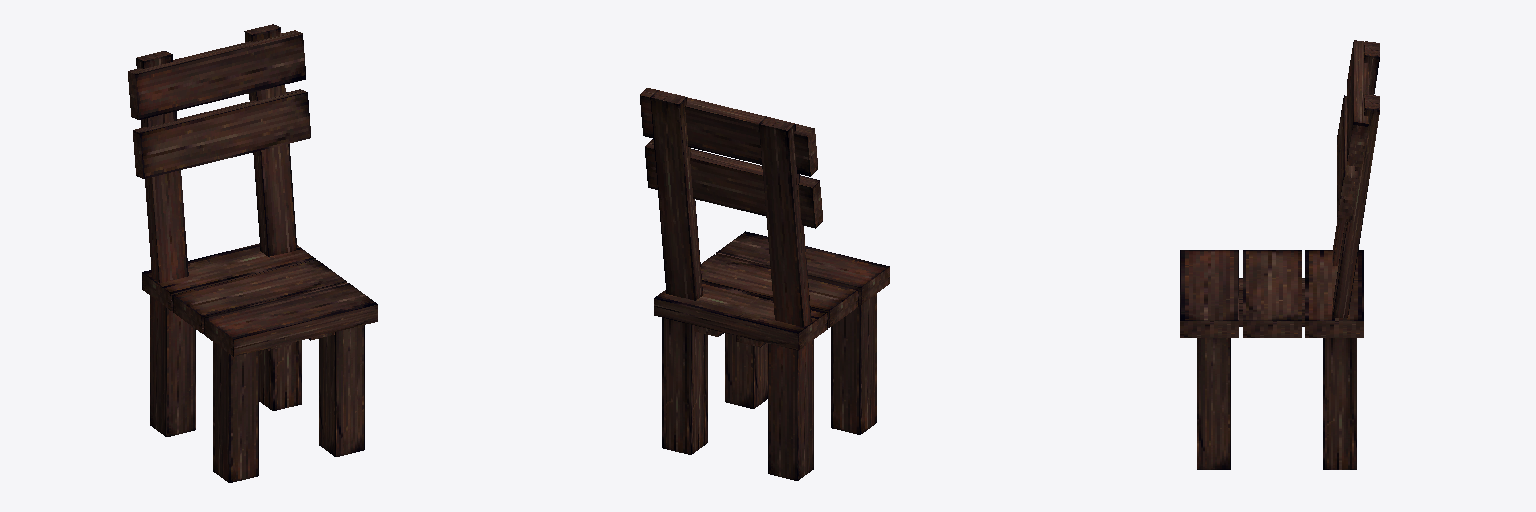
The picture shows the model from 3 angles: view 1: azimuth 30°, elevation 25°; view 2: azimuth 150°, elevation 25°; view 3: azimuth 270°, elevation 25°; orthographic projection.
Parts seen in each view (by area): view 1: Cube.009_Cube.008; view 2: Cube.009_Cube.008; view 3: Cube.009_Cube.008.
Boxes of the visible parts, x1,y1,x2,y2 form: Cube.009_Cube.008: [128, 24, 377, 482]; Cube.009_Cube.008: [640, 88, 889, 480]; Cube.009_Cube.008: [1180, 40, 1379, 469].
Bounding box in the file's own units: 1.75 × 3.6 × 1.81.
Materials: 2 (1 with a texture image).